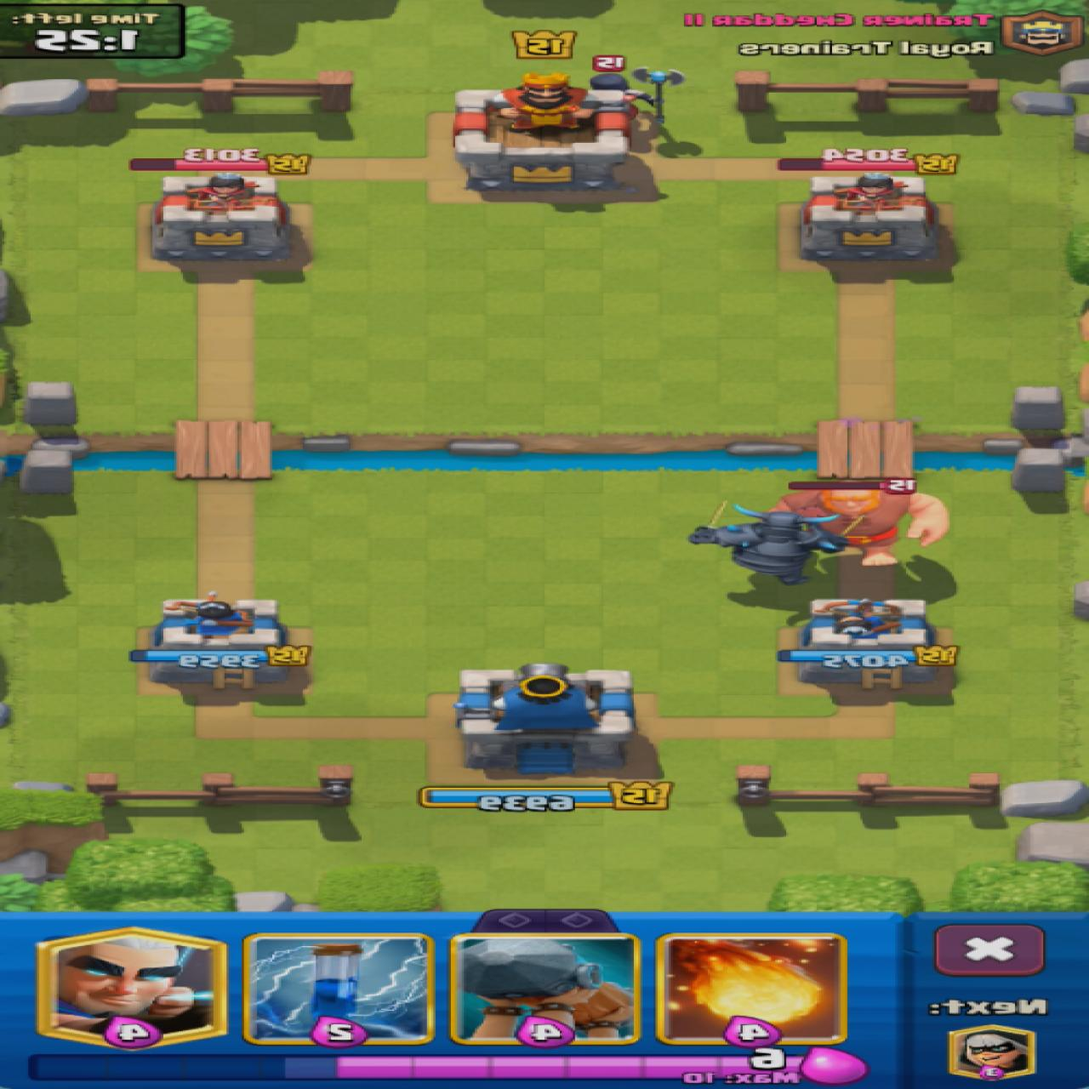Enemy-Giant: (773, 488, 950, 566)
Enemy-KingTower: (455, 73, 629, 190)
Enemy-NightWitch: (592, 67, 686, 123)
Enemy-PrincessTower: (802, 173, 939, 262), (155, 173, 290, 262)
